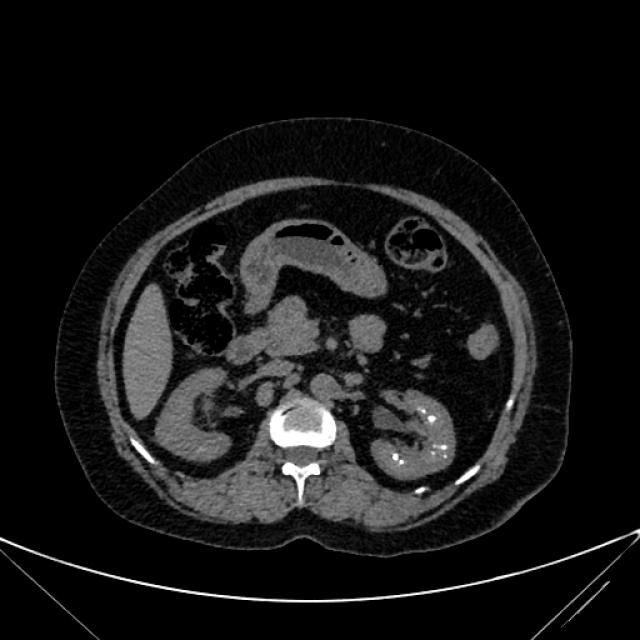kidney: (368, 395, 451, 477), (169, 369, 231, 457)
stone: (392, 452, 398, 461), (428, 416, 436, 422), (441, 445, 448, 449), (443, 454, 447, 459), (400, 460, 404, 464), (432, 451, 436, 455), (422, 409, 426, 413), (433, 444, 436, 447)
